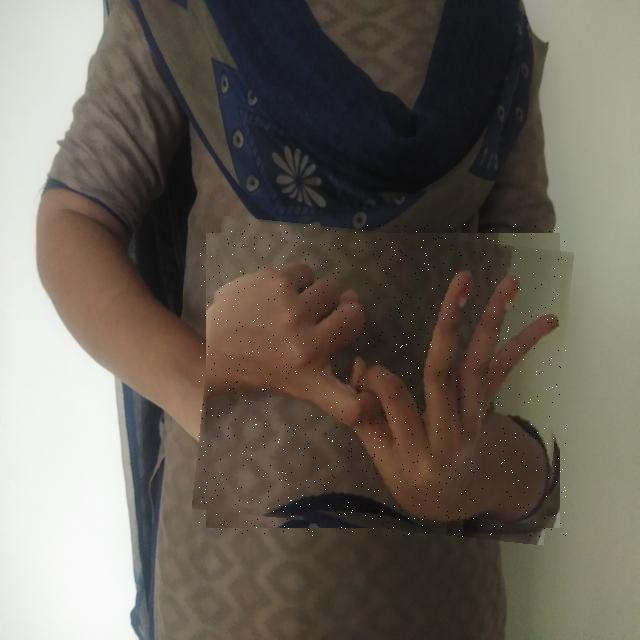Q: (199, 224, 567, 537)
